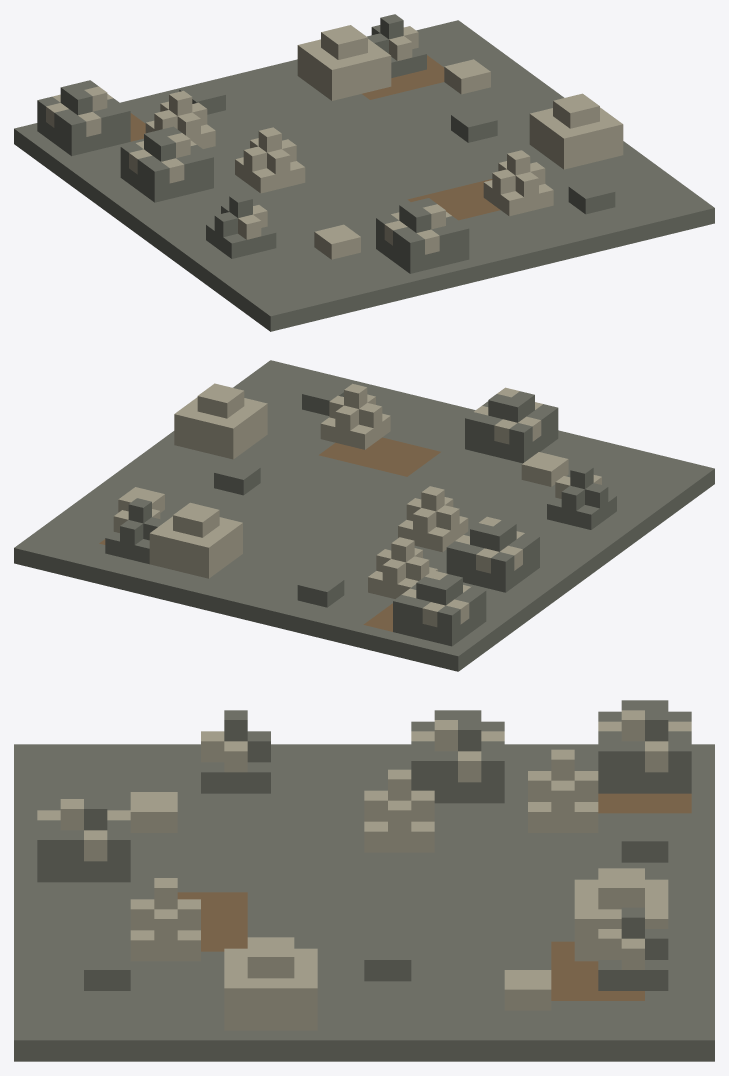
The model's file is ENV-016.glb.
3 views of the same model, one above another, from view 1: azimuth 30°, elevation 25°; view 2: azimuth 150°, elevation 25°; view 3: azimuth 270°, elevation 25° (orthographic). The views are drawn at different scales.
Visible parts, largest first — view 1: 近景0.2m量化碎石组件; view 2: 近景0.2m量化碎石组件; view 3: 近景0.2m量化碎石组件.
Part boxes in pixels (x1=…): 近景0.2m量化碎石组件: x1=14, y1=14, x2=714, y2=331; 近景0.2m量化碎石组件: x1=14, y1=360, x2=714, y2=671; 近景0.2m量化碎石组件: x1=14, y1=700, x2=714, y2=1061.
Size of the model in its own units: 6 by 0.8 by 6.
3 materials, 3 textured.
